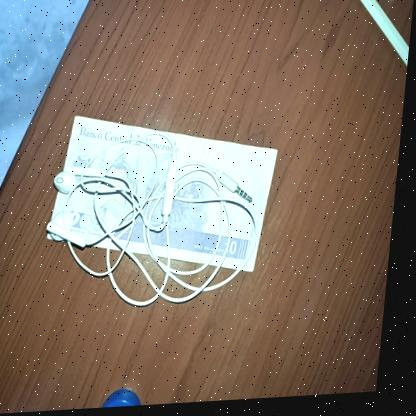ten-back-vef: (49, 104, 284, 285)
